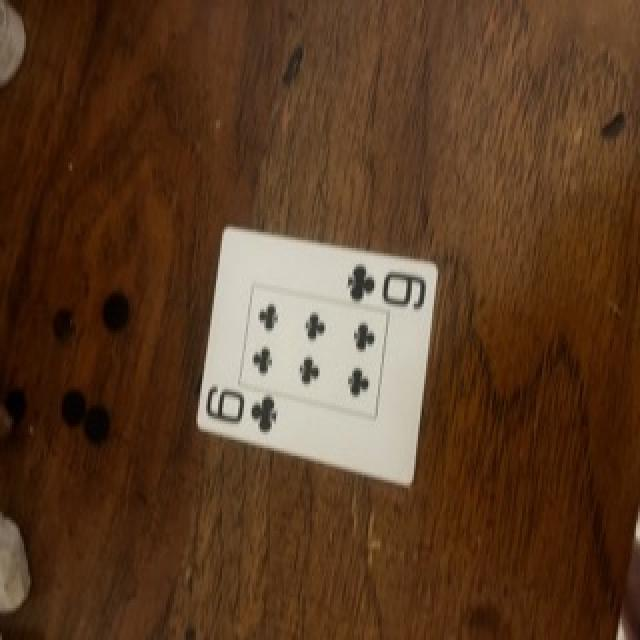6 of clubs: (200, 227, 438, 485)
